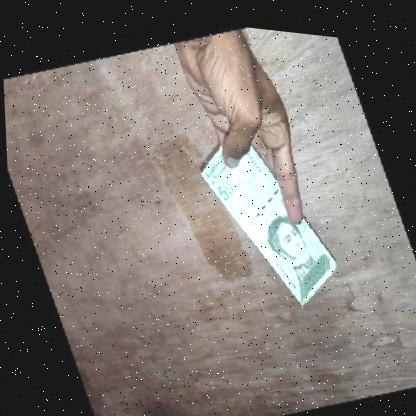fifty-front-vef: (191, 110, 345, 317)
